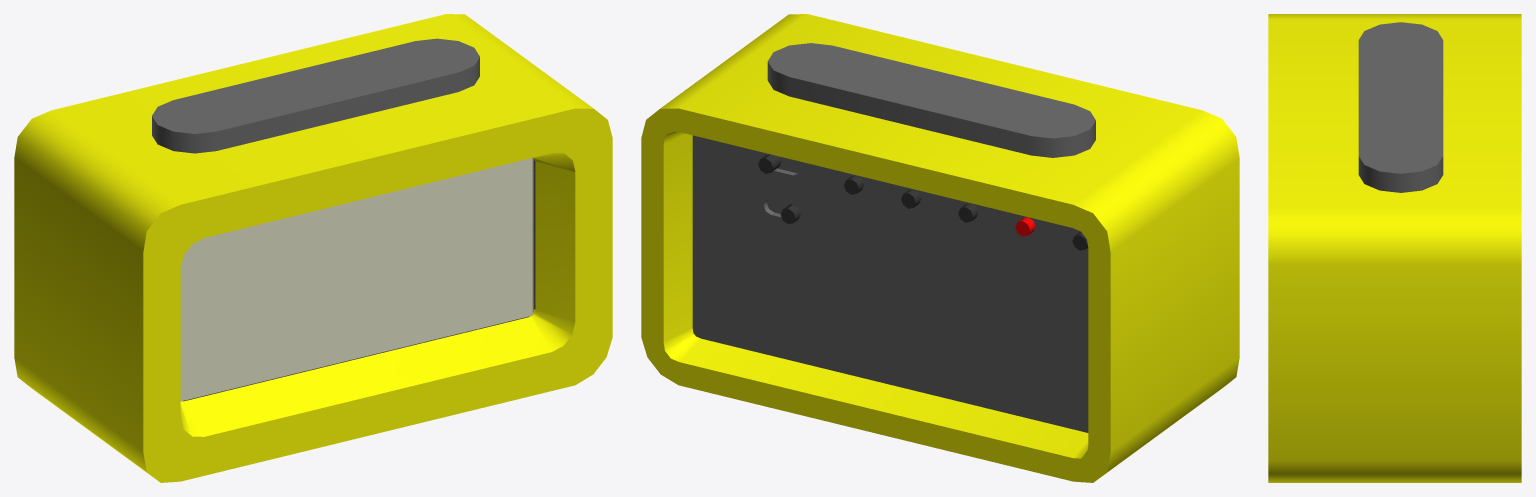
File: AlarmClock-1.dae
The picture shows the model from 3 angles, left to right: view 1: azimuth 30°, elevation 25°; view 2: azimuth 150°, elevation 25°; view 3: azimuth 270°, elevation 25°; orthographic projection.
Visible parts, largest first — view 1: group_1 (×2), SketchUp, group_0; view 2: group_1 (×3), group_0; view 3: group_1, group_0.
Boxes of the visible parts, x1,y1,x2,y2 form: group_1 (×2): (14, 14, 612, 482); SketchUp: (180, 158, 532, 401); group_0: (152, 38, 479, 153); group_1 (×3): (641, 14, 1239, 482); group_0: (767, 43, 1095, 157); group_1: (1268, 14, 1521, 482); group_0: (1358, 22, 1443, 192).
Bounding box in the file's own units: 1.54 × 0.7323 × 0.9276.
